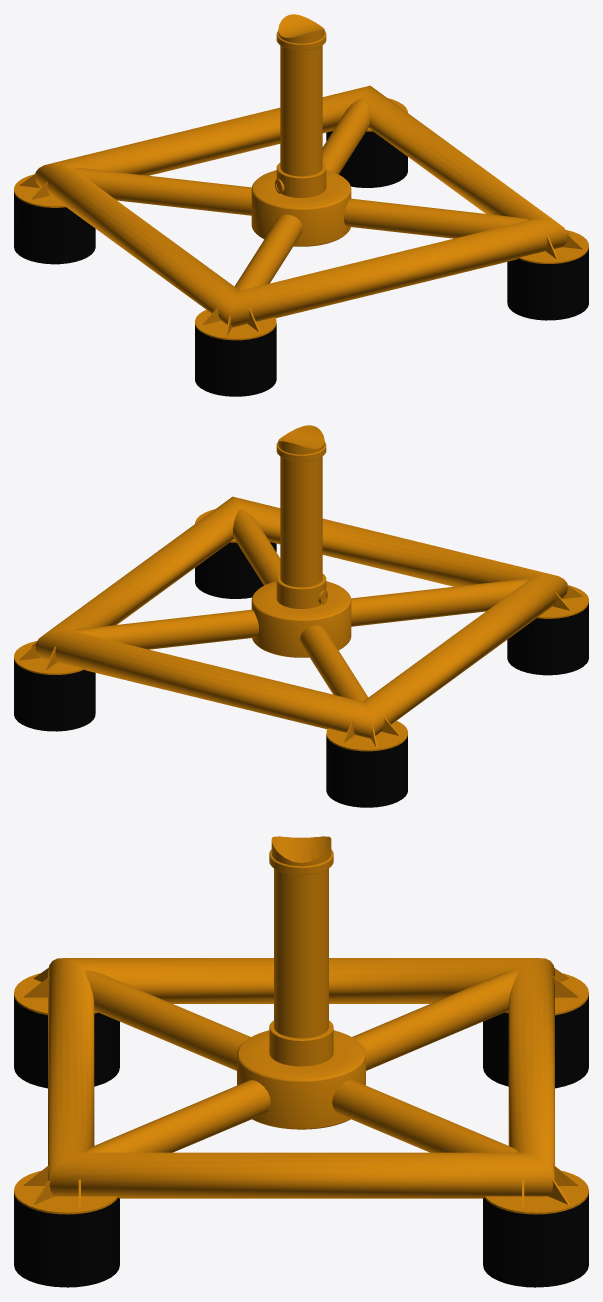
Rendered from TidalTurbine_Base.dae.
3 views of the same model, one above another, from view 1: azimuth 30°, elevation 25°; view 2: azimuth 150°, elevation 25°; view 3: azimuth 270°, elevation 25° (orthographic). The views are drawn at different scales.
Parts seen in each view (by area): view 1: TidalTurbine_Base; view 2: TidalTurbine_Base; view 3: TidalTurbine_Base.
Part boxes in pixels (x1,y1,x2,y2): TidalTurbine_Base: [14, 14, 588, 396]; TidalTurbine_Base: [14, 425, 588, 807]; TidalTurbine_Base: [14, 836, 588, 1287].
Size of the model in its own units: 10.71 by 6.73 by 10.73.
